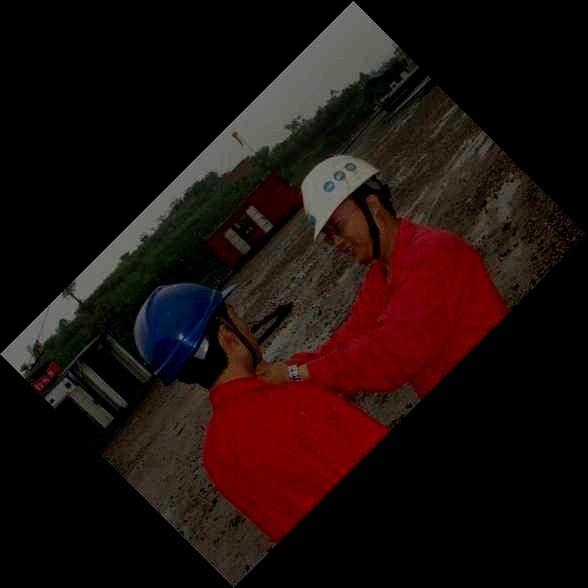helmet: (133, 284, 263, 390), (300, 154, 396, 265)
